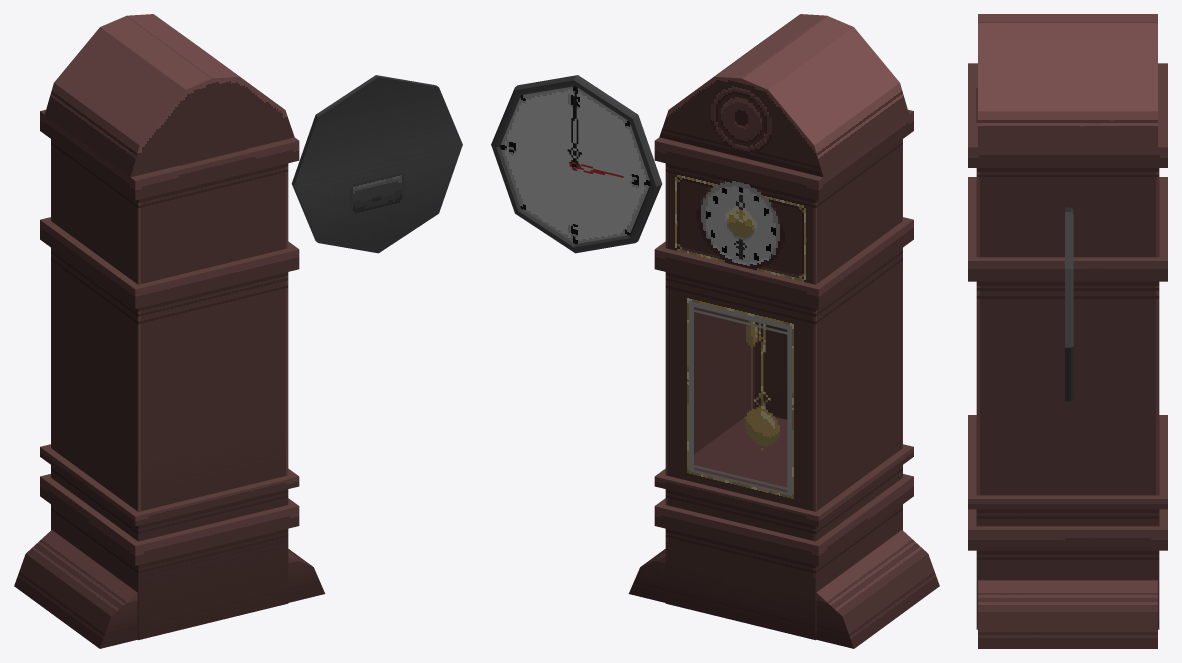
The model's file is Clocks.gltf.
3 views of the same model, side by side, from view 1: azimuth 30°, elevation 25°; view 2: azimuth 150°, elevation 25°; view 3: azimuth 270°, elevation 25° (orthographic). The views are drawn at different scales.
Parts seen in each view (by area): view 1: cuboid (×2); view 2: cuboid (×2), plane; view 3: cuboid (×2).
Boxes of the visible parts, x1,y1,x2,y2 form: cuboid (×2): (14,14,462,648); cuboid (×2): (491,14,939,648); plane: (744,323,779,450); cuboid (×2): (968,14,1167,648).
Size of the model in its own units: 2.68 by 3.44 by 1.09.
1 material, 1 textured.
